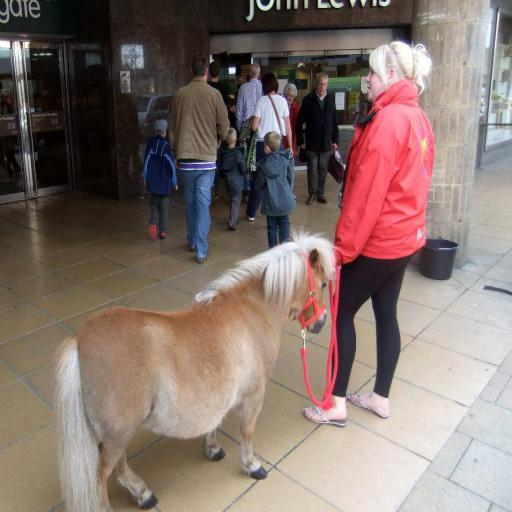horse: (48, 222, 338, 512)
